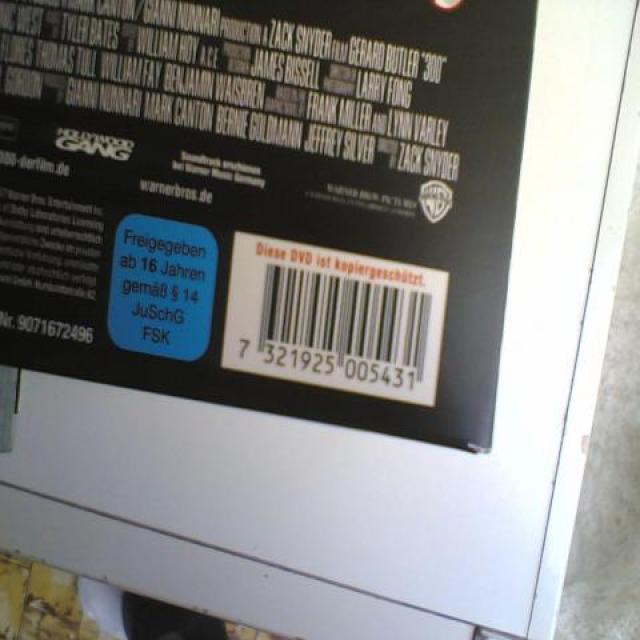Barcode: (221, 230, 450, 410)
